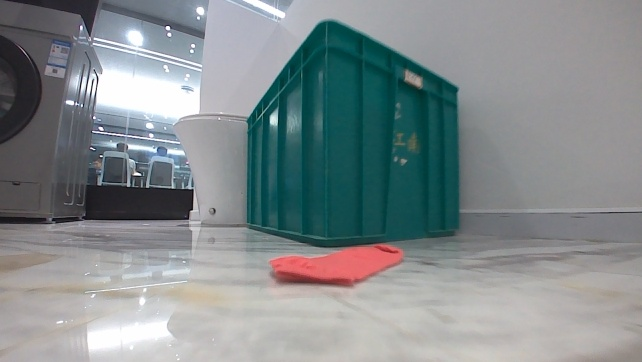socks: (265, 240, 404, 289)
toilet: (170, 112, 250, 225)
washing_machine: (0, 0, 104, 225)
